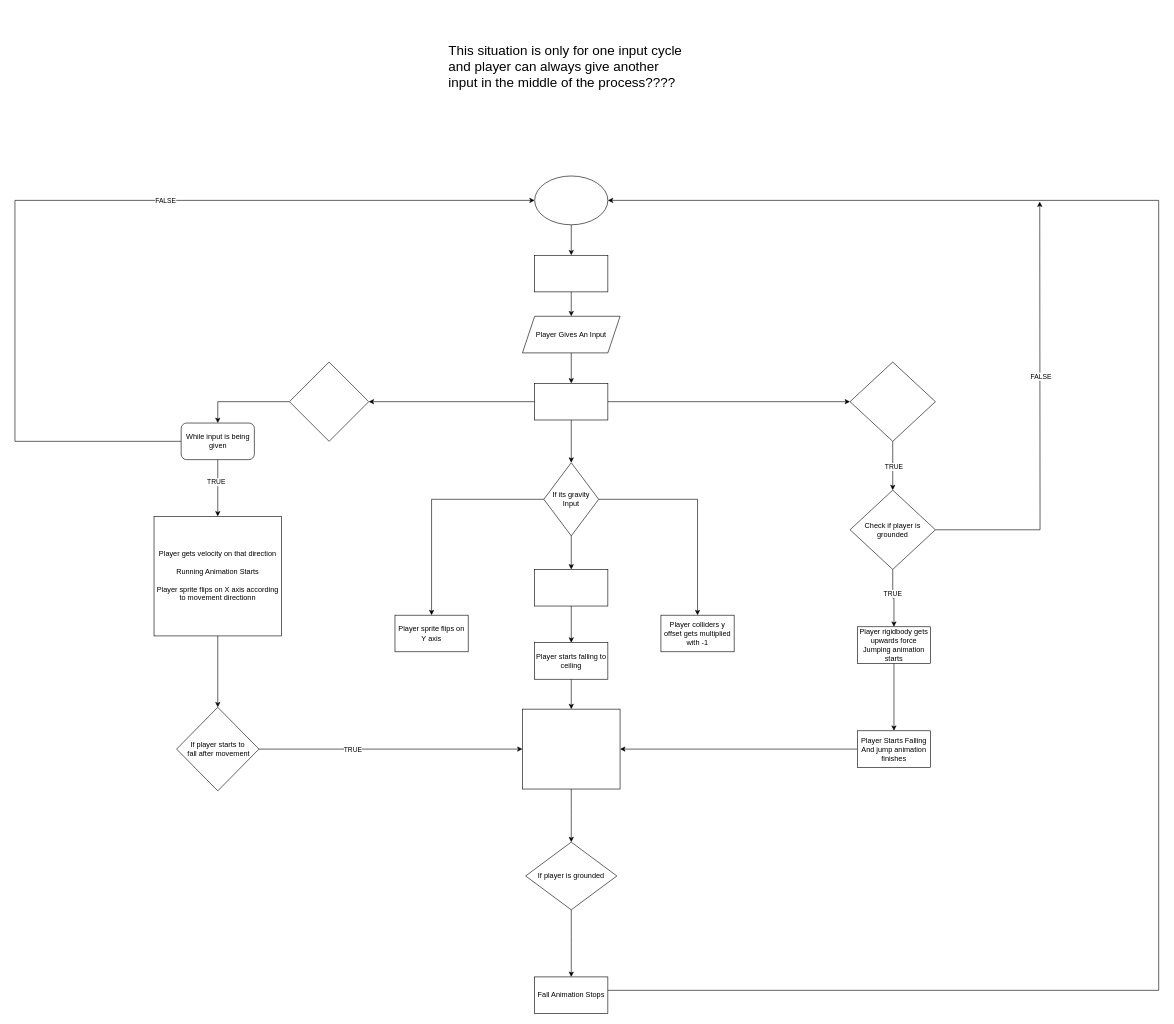
Some shapes in this 1174 by 1024 pixel diagram are drawn without their labels. Each missing label, with the box of its shape:
Idle Animation Starts Working: (534, 255, 608, 292)
If its Horizontal Movement: (289, 361, 369, 441)
If its jump input: (849, 361, 935, 441)
Input Manager Gets The Input and Sends Events or Input itself: (534, 383, 608, 420)
Other animations stops and Fall animation starts: (522, 709, 620, 789)
Player is doing nothing: (534, 175, 608, 225)
Player rigidbody gravity reverses: (534, 569, 608, 606)
